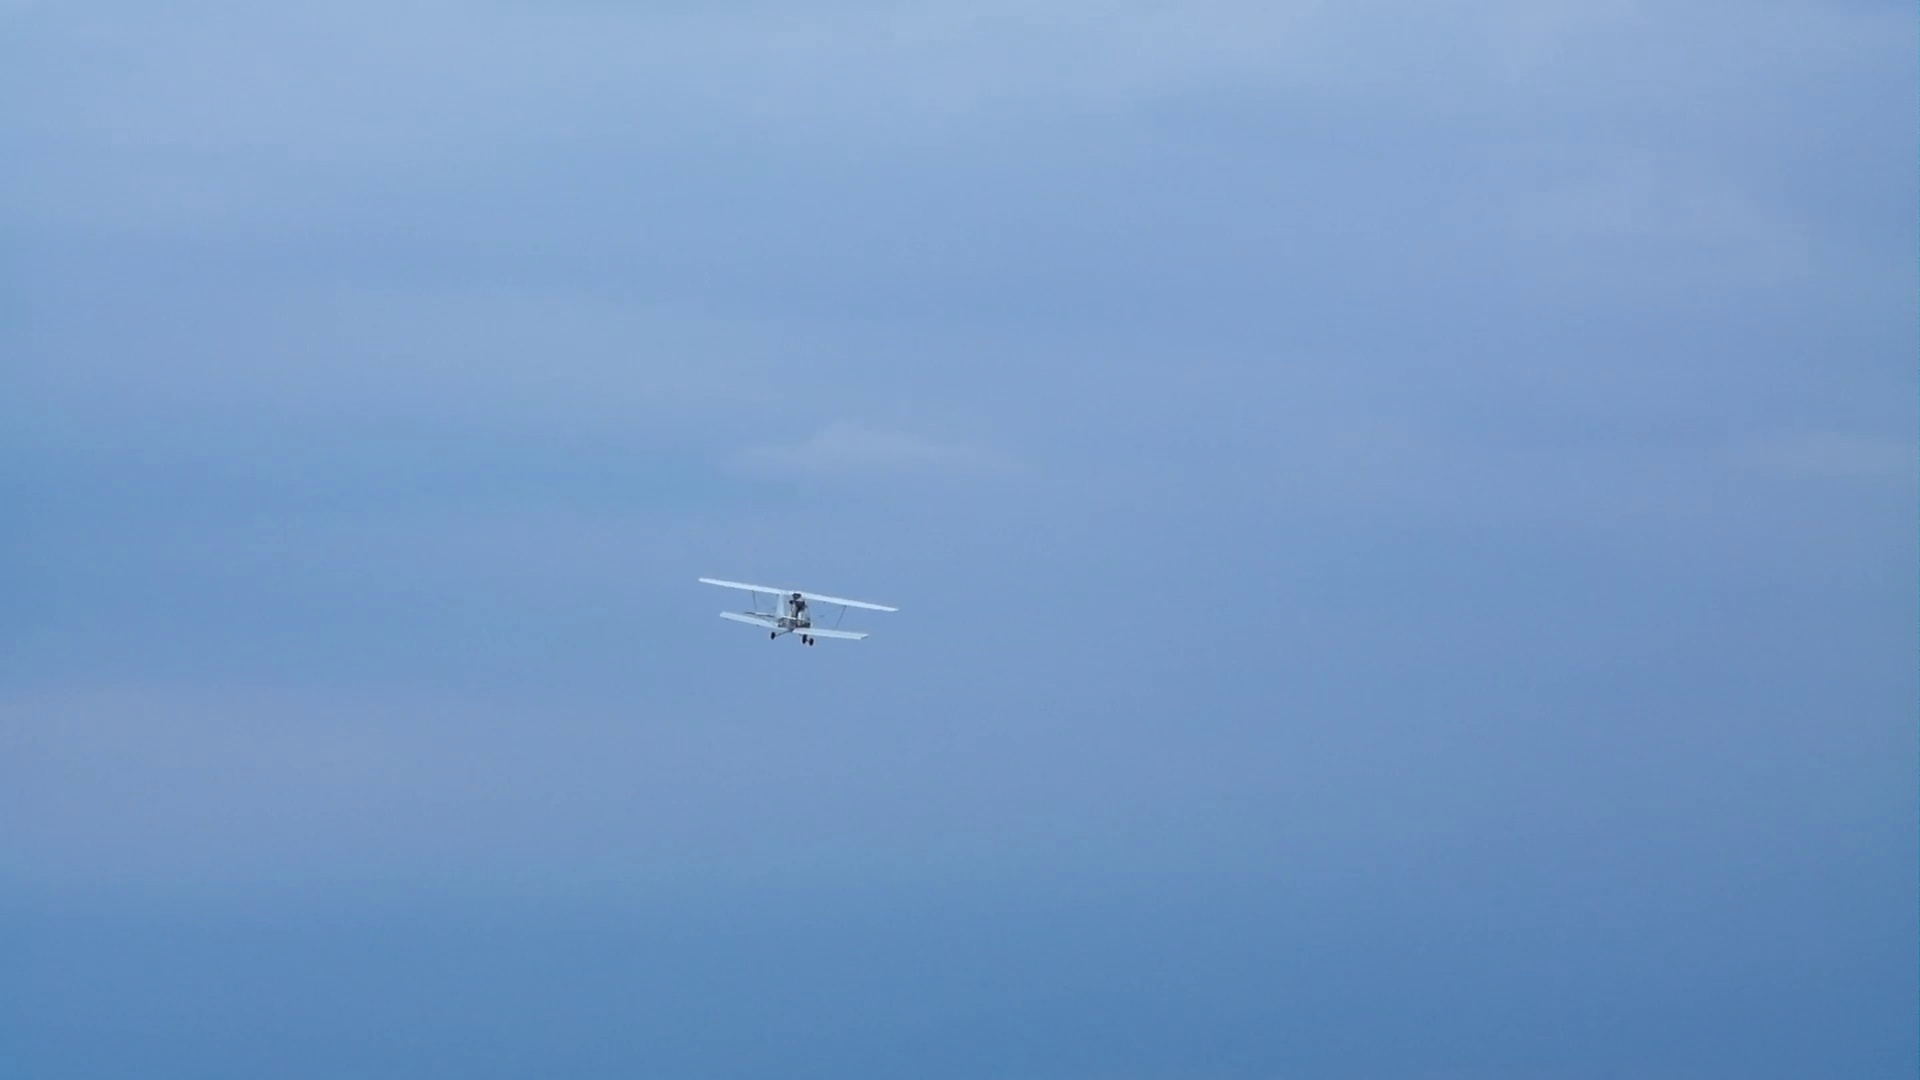plane: (698, 570, 898, 645)
